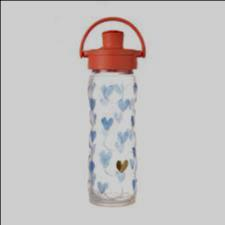Plastic: (77, 14, 144, 211)
